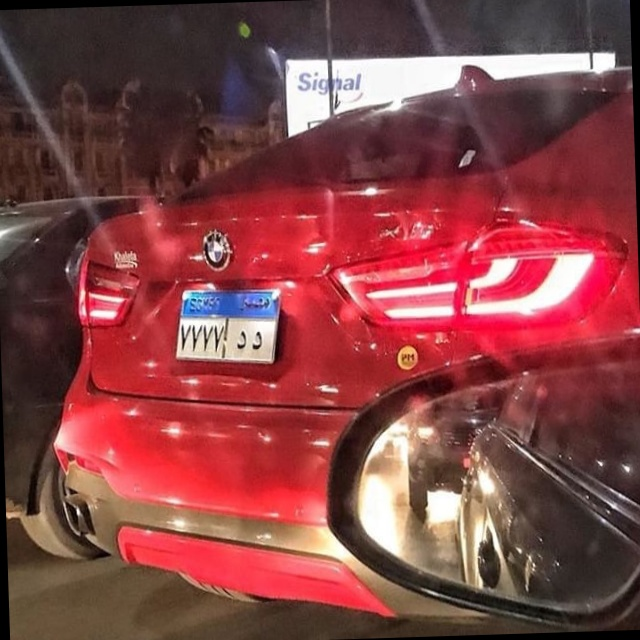License Plate: (171, 285, 285, 369)
